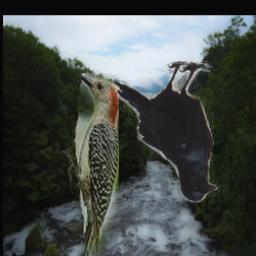Crow: (112, 61, 220, 204)
Woodpecker: (57, 73, 119, 256)
